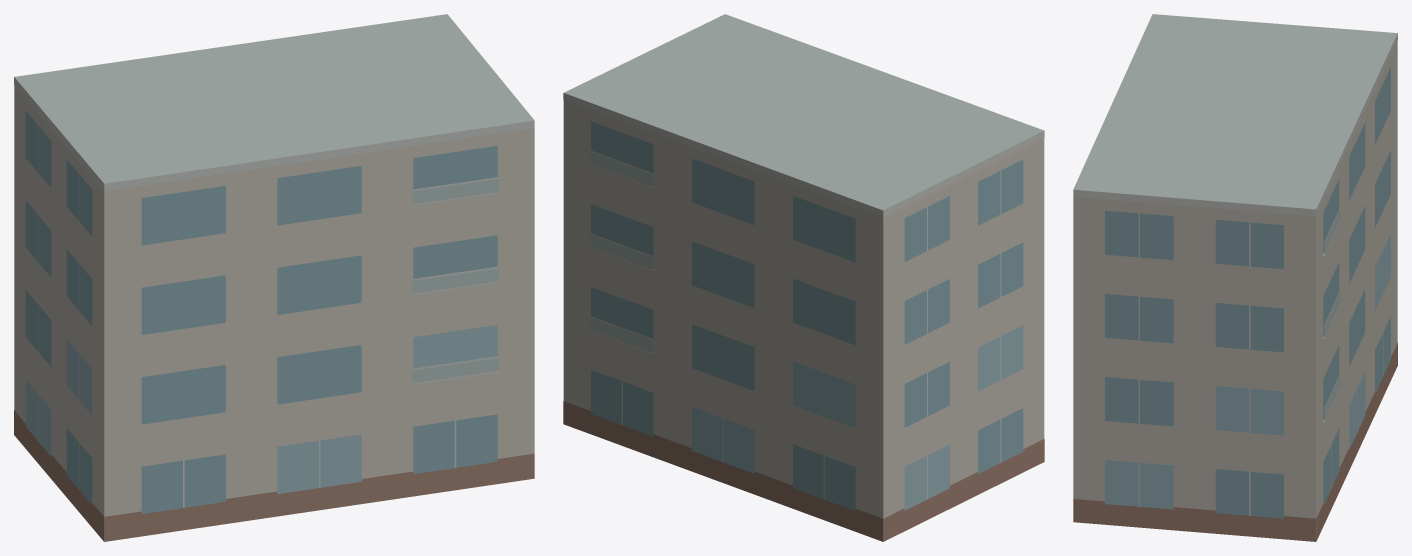
The model's file is survey-upis-32537223.glb.
The picture shows the model from 3 angles, left to right: view 1: azimuth 30°, elevation 25°; view 2: azimuth 150°, elevation 25°; view 3: azimuth 270°, elevation 25°; orthographic projection. The views are drawn at different scales.
Parts seen in each view (by area): view 1: survey-upis-32537223.tmp; view 2: survey-upis-32537223.tmp; view 3: survey-upis-32537223.tmp.
Boxes of the visible parts, bbox=[...] form: survey-upis-32537223.tmp: bbox=[14, 14, 534, 541]; survey-upis-32537223.tmp: bbox=[563, 14, 1044, 541]; survey-upis-32537223.tmp: bbox=[1073, 14, 1397, 541].
Size of the model in its own units: 14.51 by 11.5 by 10.19.
